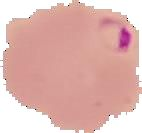parasitized: (89, 12, 134, 57)
